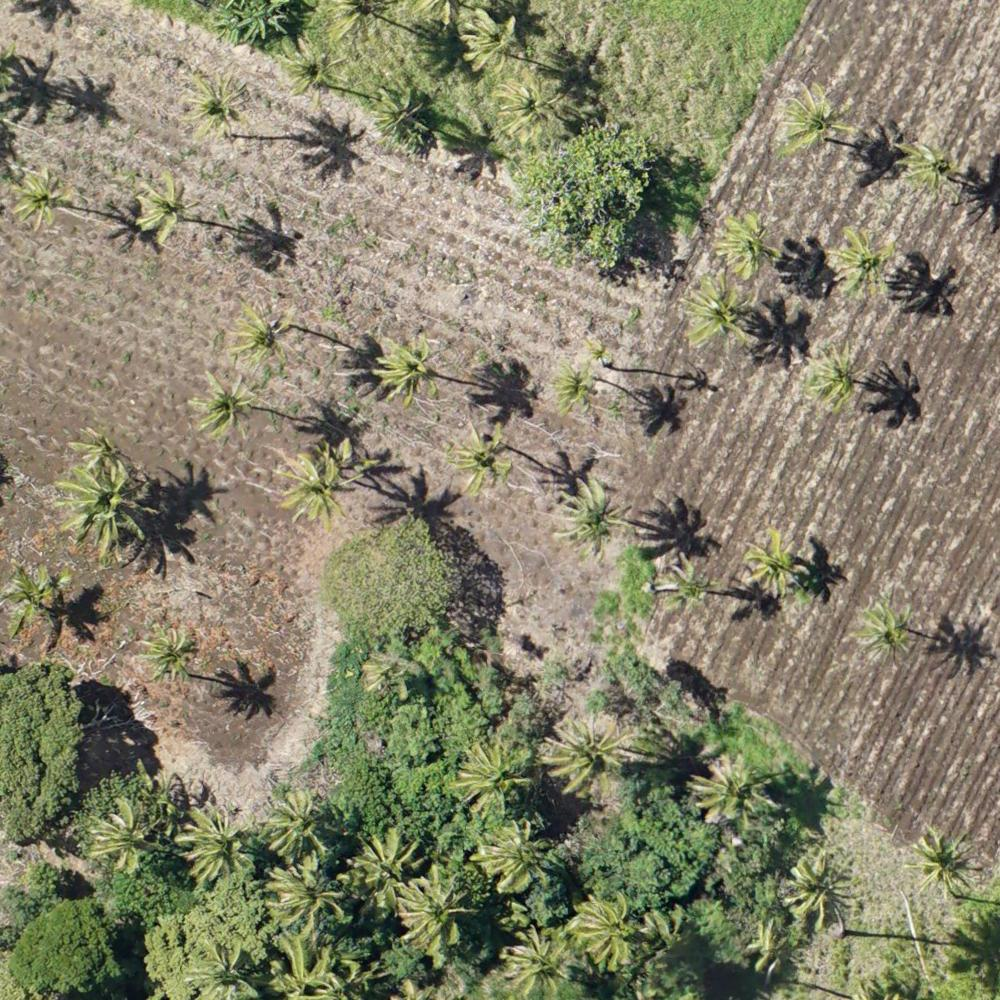Palm: (54, 462, 147, 551), (455, 733, 534, 818), (540, 719, 626, 797), (179, 801, 253, 885), (349, 830, 423, 913), (268, 866, 351, 938), (395, 875, 472, 951), (693, 757, 770, 833), (225, 299, 303, 373), (550, 481, 629, 554), (279, 447, 354, 523), (91, 796, 162, 875), (501, 925, 580, 996), (189, 369, 261, 446), (572, 894, 642, 971), (371, 329, 442, 404), (905, 826, 980, 896), (829, 226, 899, 300), (265, 790, 334, 864), (480, 823, 550, 894), (786, 856, 852, 931), (181, 73, 251, 142), (190, 933, 260, 1000), (785, 83, 848, 157), (806, 342, 867, 418), (686, 279, 754, 345), (128, 175, 193, 240), (452, 426, 517, 489), (892, 139, 959, 200), (715, 210, 774, 279), (142, 624, 204, 689), (743, 528, 805, 592), (275, 42, 340, 101), (503, 77, 559, 143), (856, 599, 914, 660), (464, 7, 520, 66), (14, 168, 65, 227), (551, 363, 601, 413)
